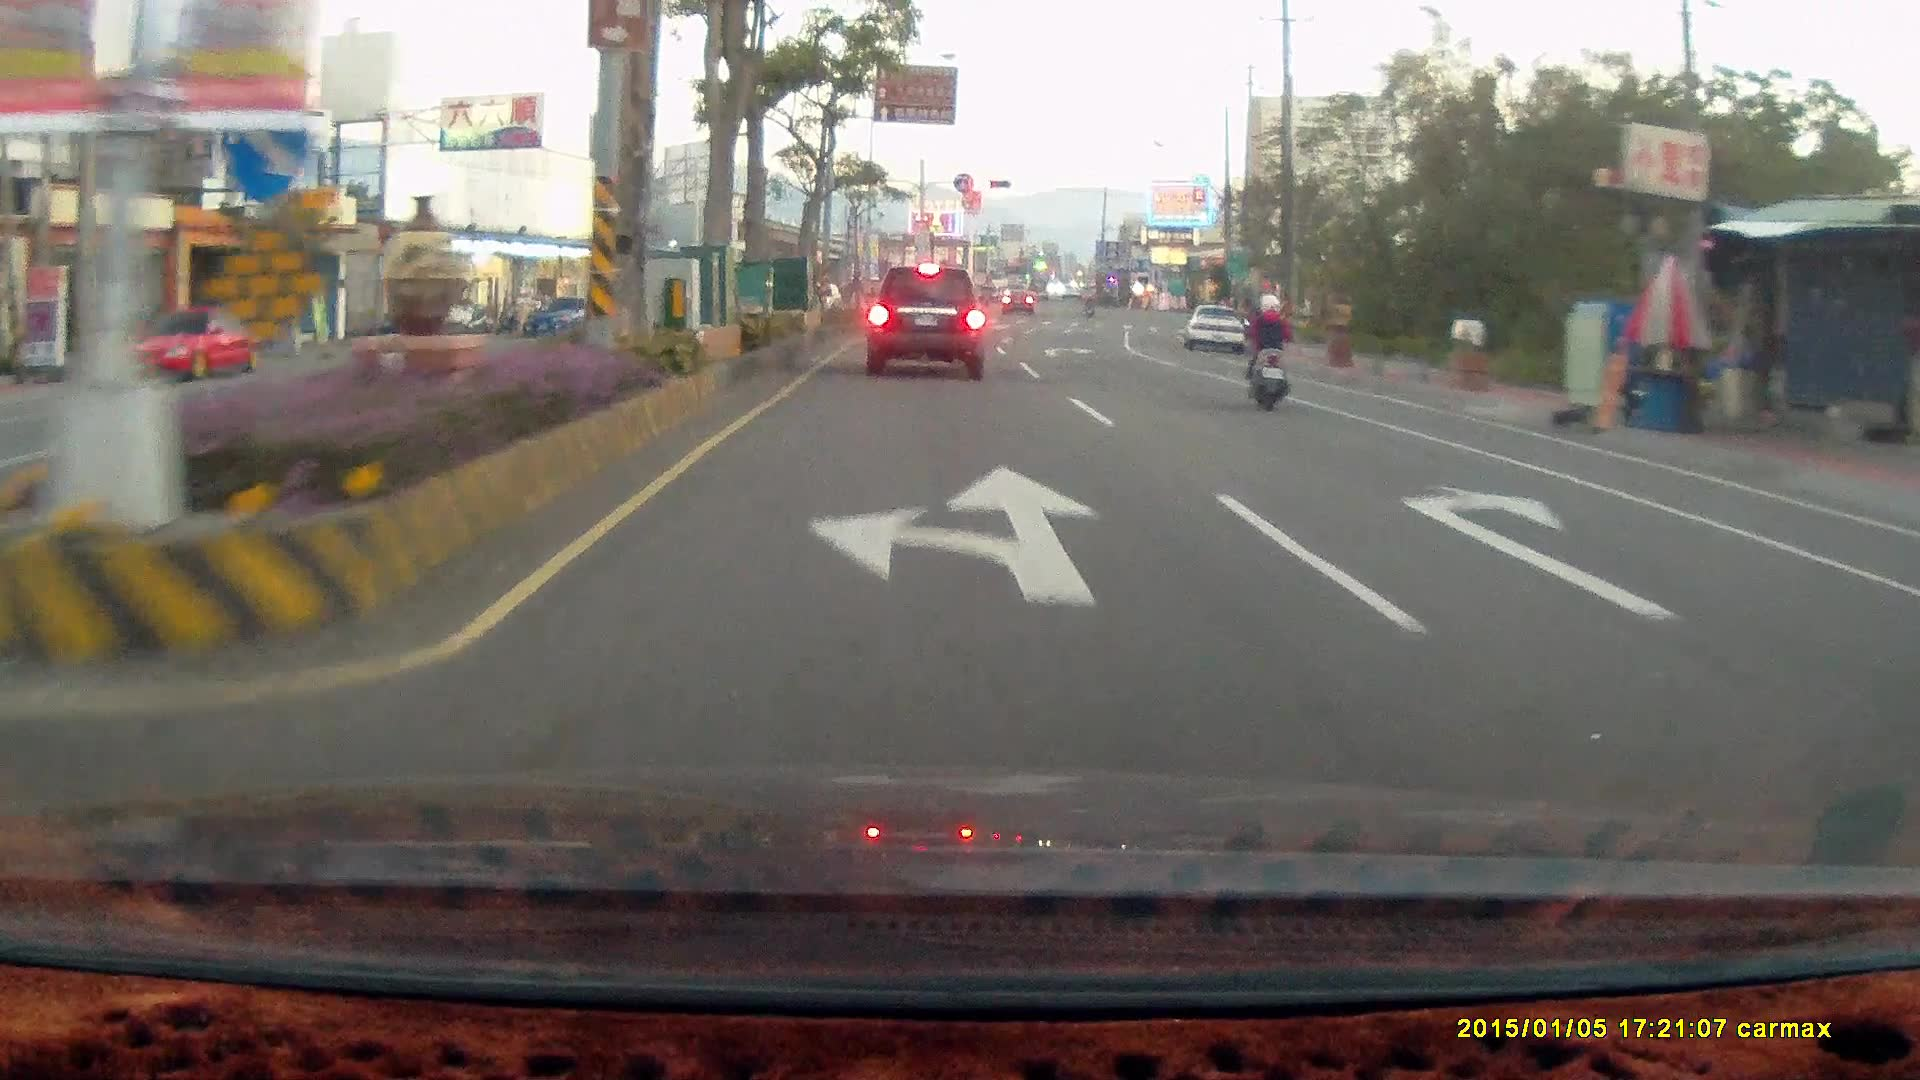rider: (1240, 290, 1294, 413)
vehicle: (866, 265, 981, 380), (117, 304, 266, 379), (1896, 493, 1920, 836), (1883, 528, 1920, 690), (376, 300, 483, 349), (1183, 305, 1245, 357), (1183, 303, 1246, 354)
